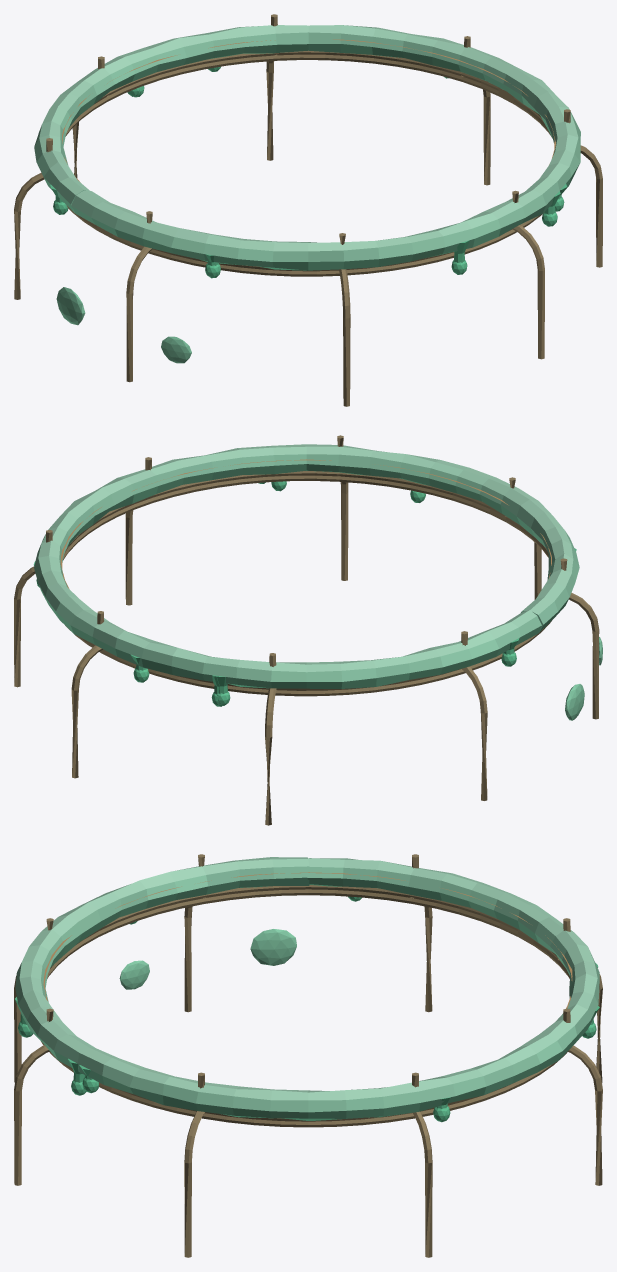
File: goo_jar_trim_2_mid.fbx
The picture shows the model from 3 angles, top to bottom: view 1: azimuth 30°, elevation 25°; view 2: azimuth 150°, elevation 25°; view 3: azimuth 270°, elevation 25°; orthographic projection. The views are drawn at different scales.
Visible parts, largest first — view 1: goo_jar_trim_2_mid; view 2: goo_jar_trim_2_mid; view 3: goo_jar_trim_2_mid.
Boxes of the visible parts, x1,y1,x2,y2 form: goo_jar_trim_2_mid: (14,14,602,406); goo_jar_trim_2_mid: (14,435,602,825); goo_jar_trim_2_mid: (14,854,602,1257).
Size of the model in its own units: 53.09 by 16.05 by 50.92.
